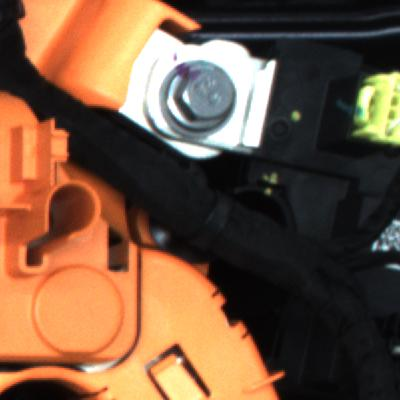nut_b: (150, 54, 250, 139)
